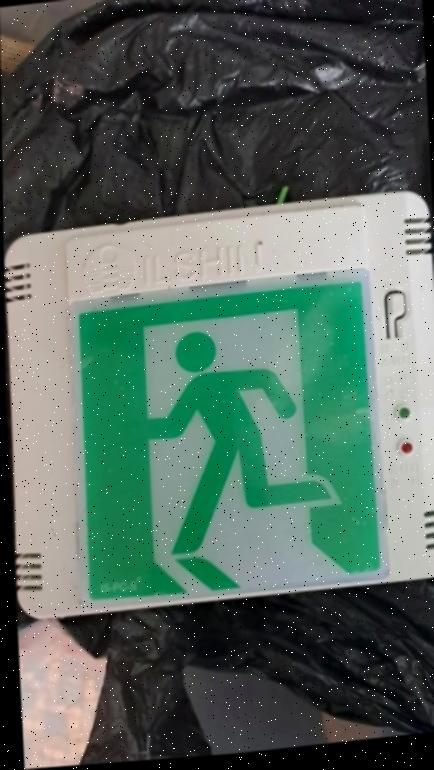emergency_exit: (5, 190, 432, 621), (67, 267, 388, 610)
